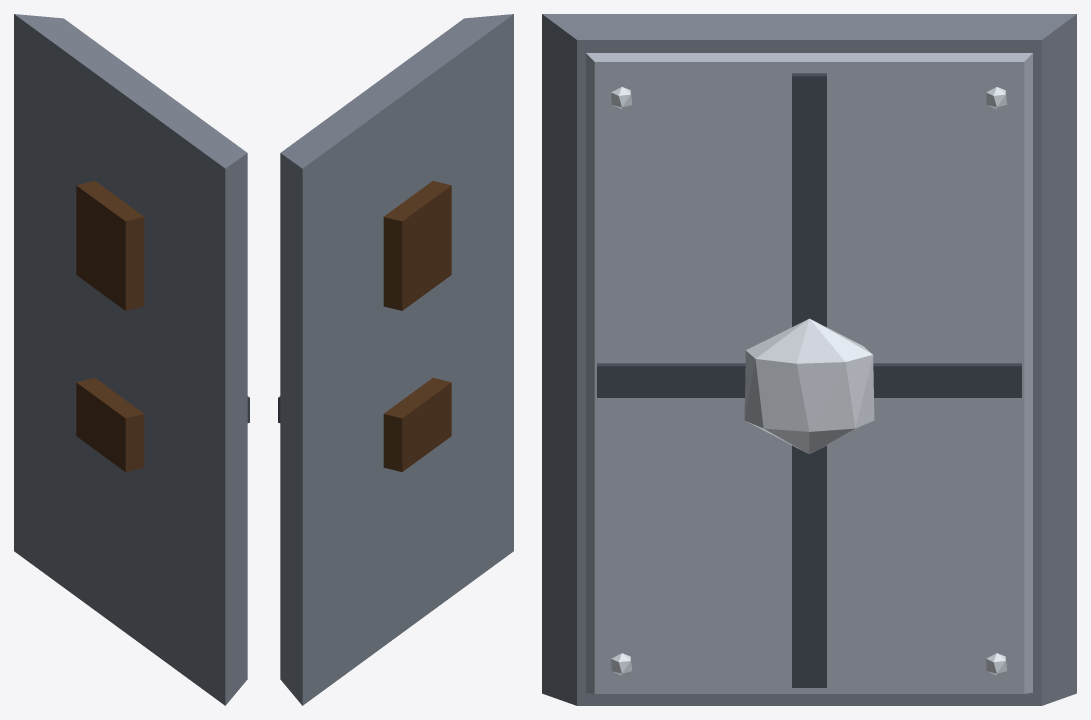
The model's file is held_steel_squareshield.glb.
3 views of the same model, side by side, from view 1: azimuth 30°, elevation 25°; view 2: azimuth 150°, elevation 25°; view 3: azimuth 270°, elevation 25° (orthographic). The views are drawn at different scales.
Parts seen in each view (by area): view 1: held_steel_squareshield; view 2: held_steel_squareshield; view 3: held_steel_squareshield.
Boxes of the visible parts, left/top/right/bottom form: held_steel_squareshield: left=14, top=14, right=249, bottom=705; held_steel_squareshield: left=278, top=14, right=513, bottom=705; held_steel_squareshield: left=542, top=14, right=1076, bottom=705.
Bounding box in the file's own units: 0.1057 × 0.6 × 0.428.
